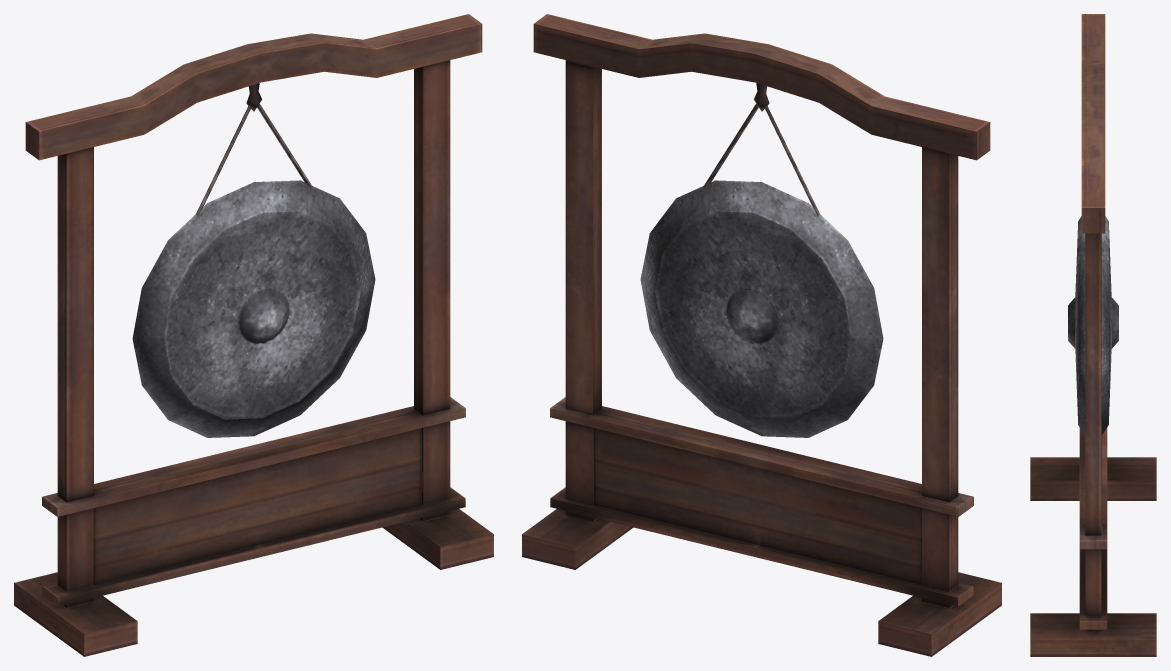
File: Gong.FBX
3 renders of one model, left to right at view 1: azimuth 30°, elevation 25°; view 2: azimuth 150°, elevation 25°; view 3: azimuth 270°, elevation 25°, orthographic. The views are drawn at different scales.
Parts seen in each view (by area): view 1: gong; view 2: gong; view 3: gong.
Part boxes in pixels (<box>): gong: <box>14,14,493,656</box>; gong: <box>522,14,1001,656</box>; gong: <box>1030,14,1156,656</box>.
Bounding box in the file's own units: 78.67 × 90.29 × 21.6.
